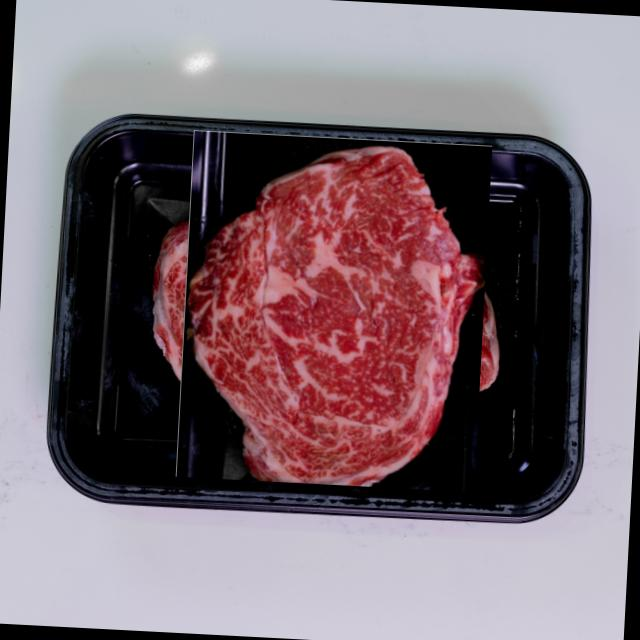beef: (164, 142, 503, 480)
